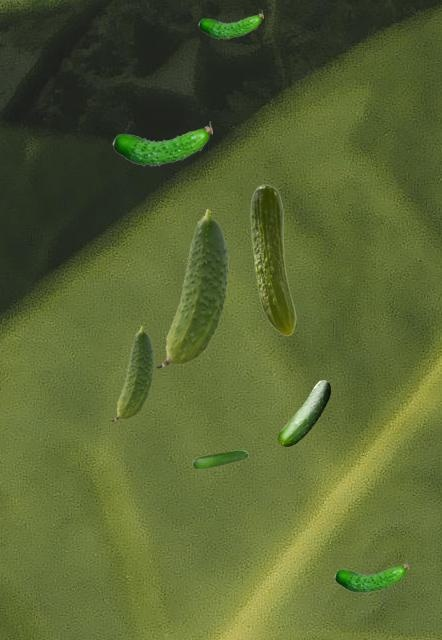cucumber: (156, 209, 228, 367), (250, 184, 295, 335), (112, 121, 211, 165), (111, 326, 153, 420), (278, 380, 329, 445), (334, 560, 407, 592), (198, 10, 262, 38), (192, 450, 247, 468)
